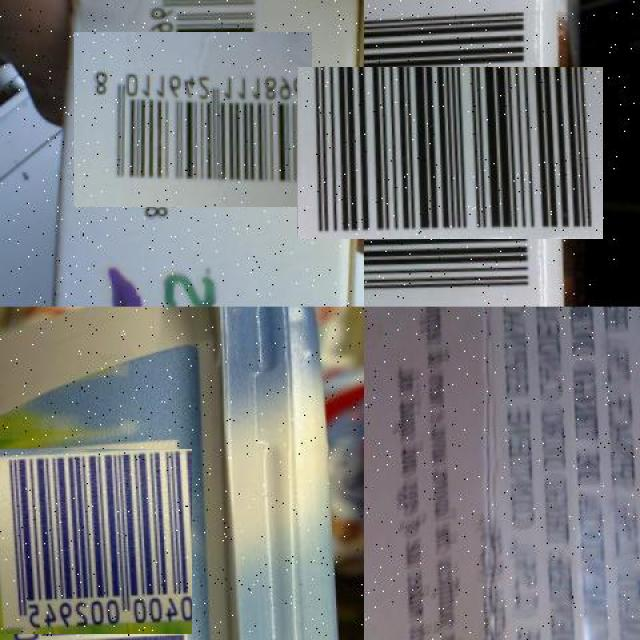Barcode: (330, 34, 570, 273), (89, 16, 296, 223), (0, 445, 189, 637)
